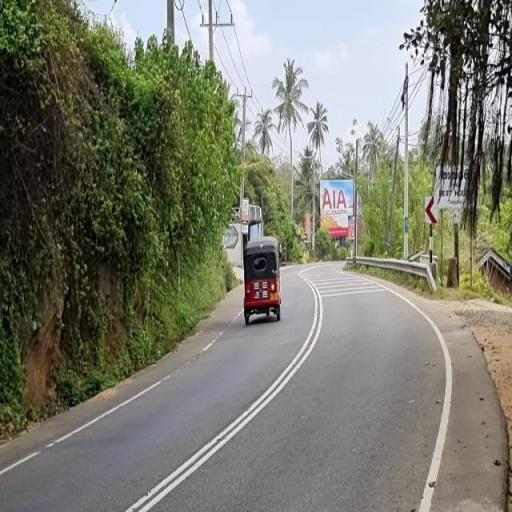double_white_line: (125, 280, 324, 511)
